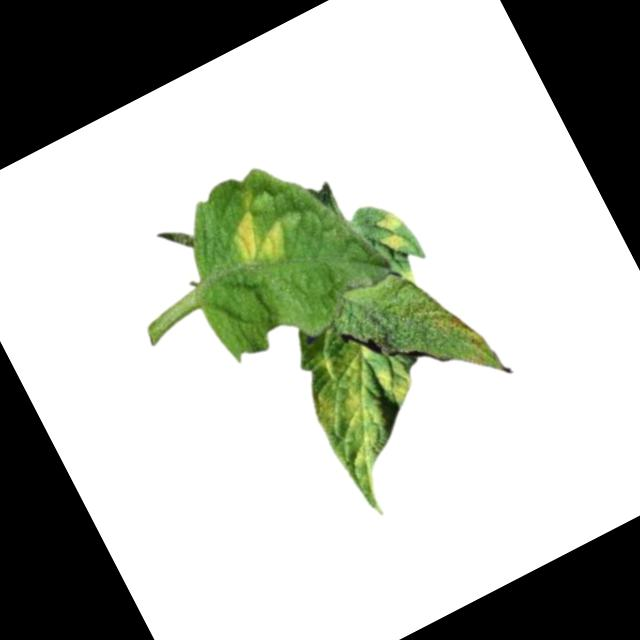Leaf_Mold: (287, 325, 455, 511), (224, 200, 298, 276), (367, 205, 418, 262)
